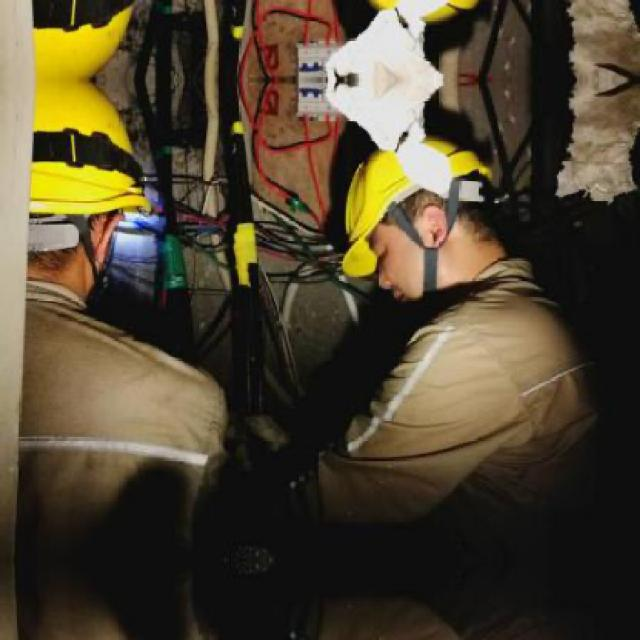helmet: (18, 82, 154, 286), (345, 136, 500, 302), (17, 0, 154, 80)
